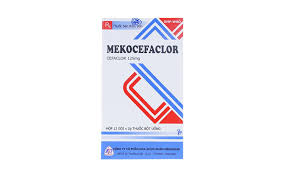Mekocefaclor: (104, 40, 181, 57)
